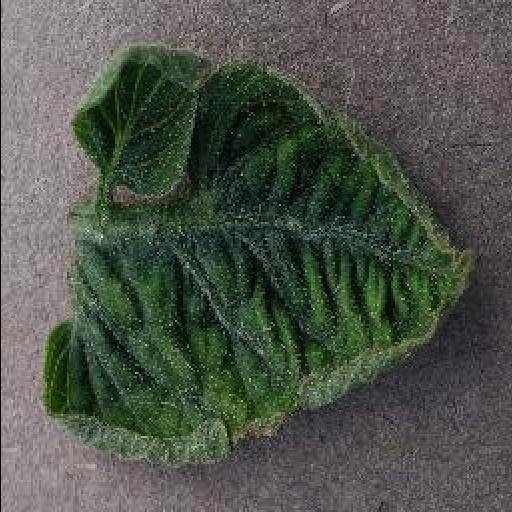disease_tomato: (38, 38, 474, 464)
